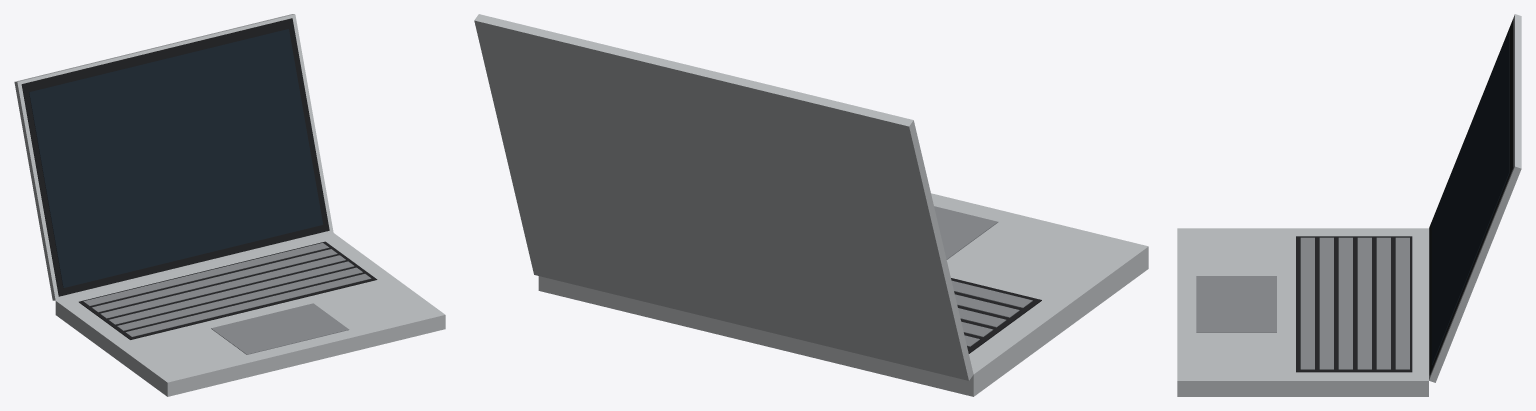
File: laptop.glb
3 views of the same model, side by side, from view 1: azimuth 30°, elevation 25°; view 2: azimuth 150°, elevation 25°; view 3: azimuth 270°, elevation 25° (orthographic). The views are drawn at different scales.
Visible parts, largest first — view 1: laptop; view 2: laptop; view 3: laptop.
Part boxes in pixels (<box>): laptop: <box>14,14,445,396</box>; laptop: <box>474,14,1148,396</box>; laptop: <box>1177,14,1521,396</box>.
Size of the model in its own units: 0.304 by 0.2142 by 0.2901.
Materials: 1 (1 with a texture image).
